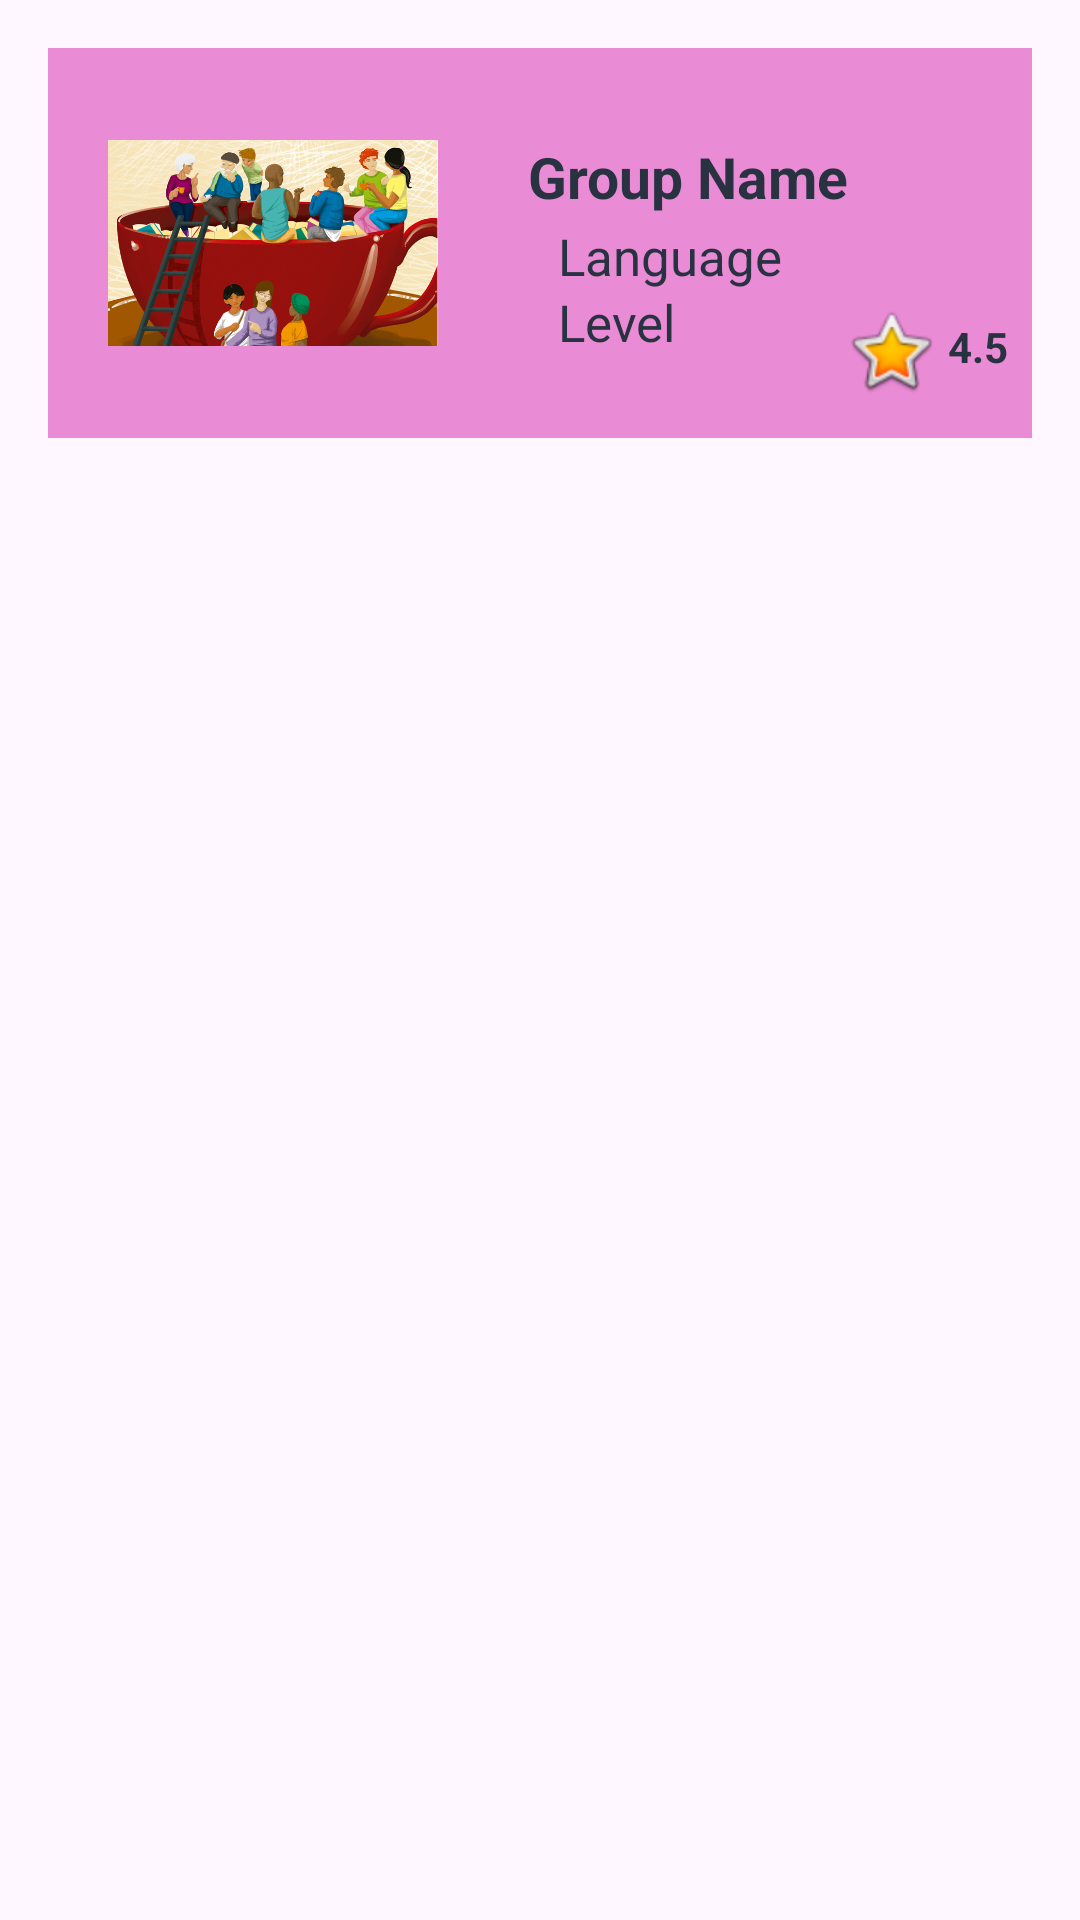

Where to tap for icons on this 1080 × 1920 app screen, as point (x, y):
grupo: point (273, 243)
star on: point (892, 352)
